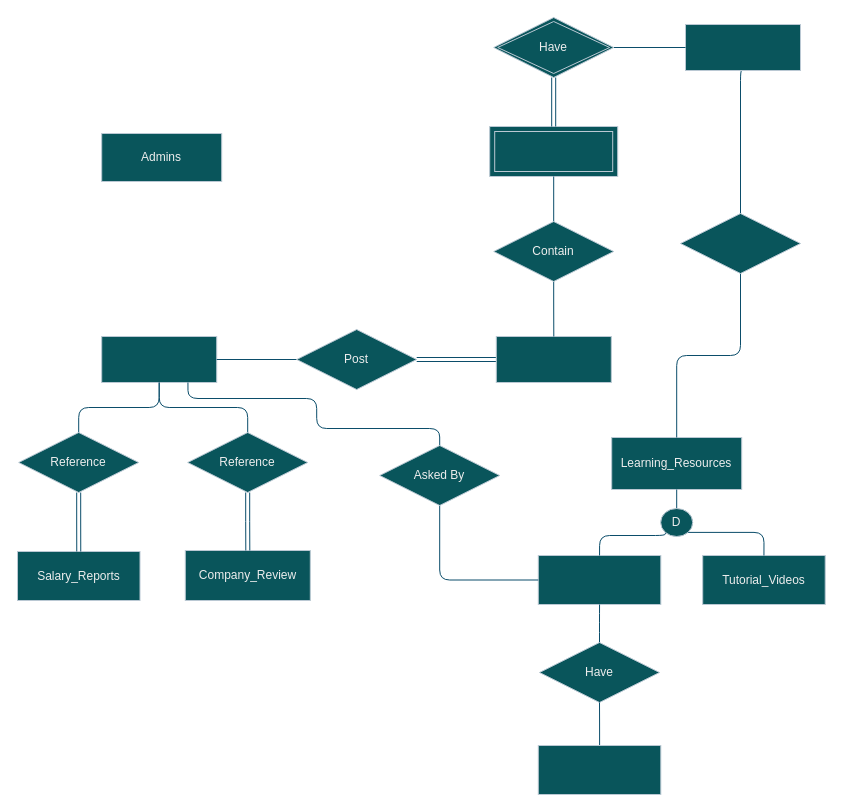
Image size: 843x812. Some labels were removed from this diagram. Each missing label, with the box of its shape:
Application_List: (489, 126, 618, 176)
Company: (101, 336, 217, 382)
Jobs: (495, 336, 611, 382)
Practice Questions: (537, 554, 661, 604)
Save: (680, 212, 800, 274)
Solution_Video: (537, 744, 661, 794)
User: (684, 24, 800, 70)
